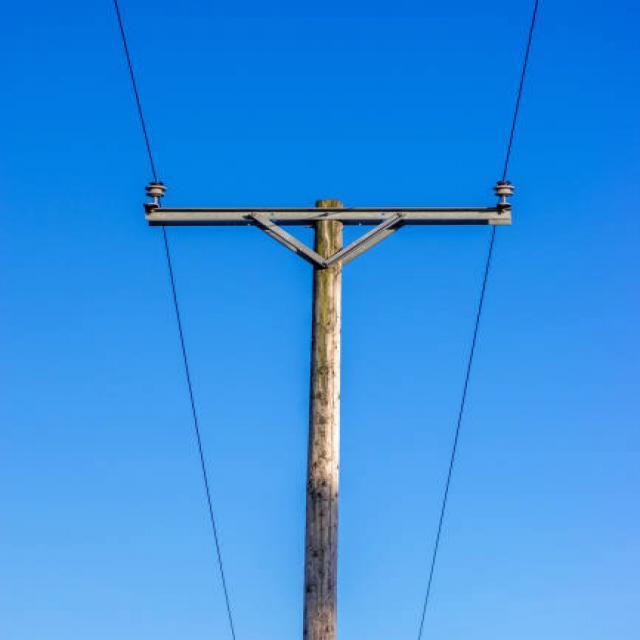crossarm: (143, 183, 513, 272)
pole: (303, 255, 349, 640)
wire: (108, 0, 249, 640), (407, 3, 544, 640)
